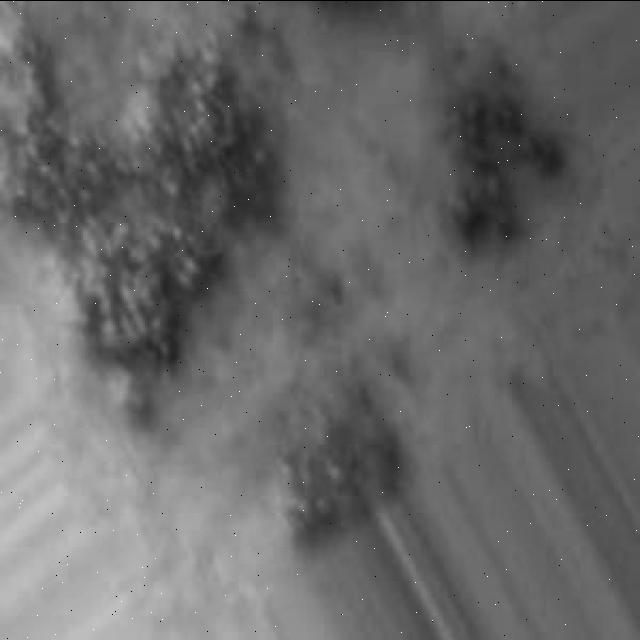Shingles: (0, 25, 279, 387), (270, 384, 400, 546), (443, 78, 565, 244)
